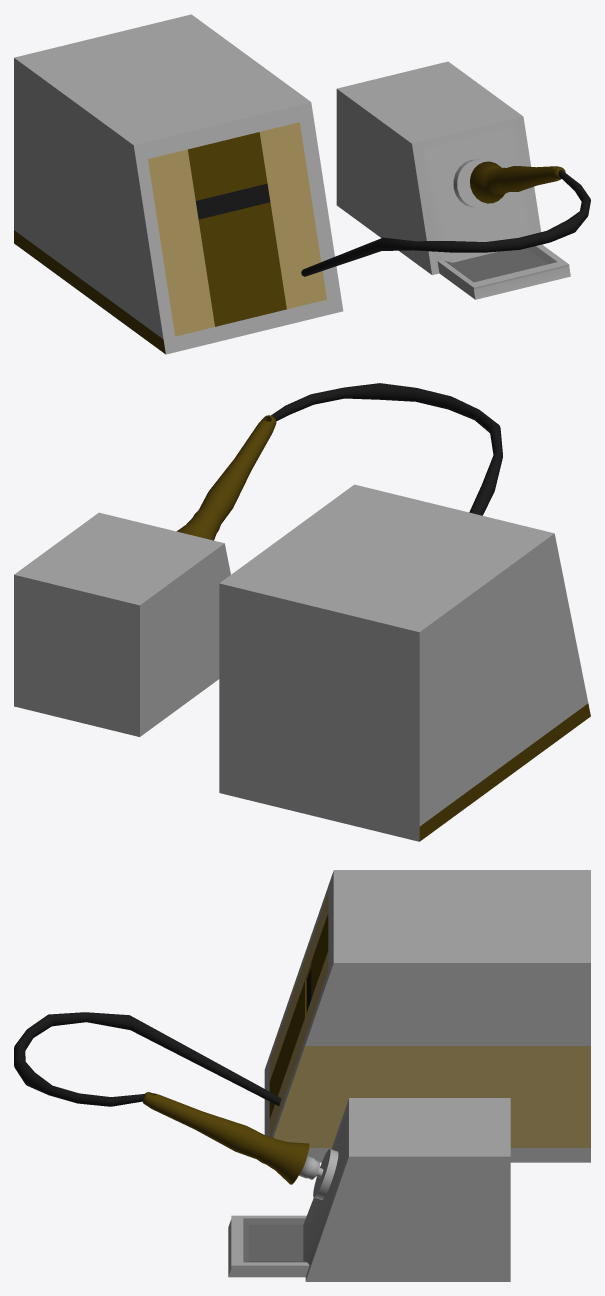
Rendered from SolderStation.fbx.
3 views of the same model, one above another, from view 1: azimuth 30°, elevation 25°; view 2: azimuth 150°, elevation 25°; view 3: azimuth 270°, elevation 25° (orthographic). The views are drawn at different scales.
Visible parts, largest first — view 1: pCube164, pCube165, pTorus1, pCylinder56, pCylinder55; view 2: pCube164, pCube165, pTorus1, pCylinder56; view 3: pCube164, pCube165, pTorus1, pCylinder56, pCylinder55.
Part boxes in pixels (bbox=[...]): pCube164: bbox=[14, 14, 343, 354]; pCube165: bbox=[336, 61, 570, 299]; pTorus1: bbox=[301, 170, 590, 276]; pCylinder56: bbox=[470, 161, 565, 203]; pCylinder55: bbox=[453, 159, 488, 207]; pCube164: bbox=[219, 484, 590, 841]; pCube165: bbox=[14, 512, 230, 736]; pTorus1: bbox=[268, 383, 502, 515]; pCylinder56: bbox=[176, 415, 276, 540]; pCube164: bbox=[264, 870, 590, 1162]; pCube165: bbox=[228, 1098, 510, 1281]; pTorus1: bbox=[14, 1012, 281, 1106]; pCylinder56: bbox=[142, 1092, 323, 1184]; pCylinder55: bbox=[313, 1149, 338, 1199].
Size of the model in its own units: 5.88 by 2.69 by 6.9.
